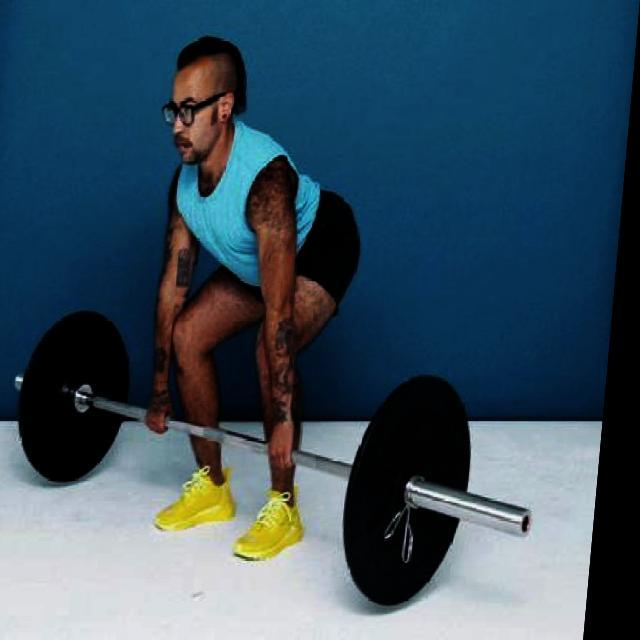barbell: (340, 385, 562, 618)
